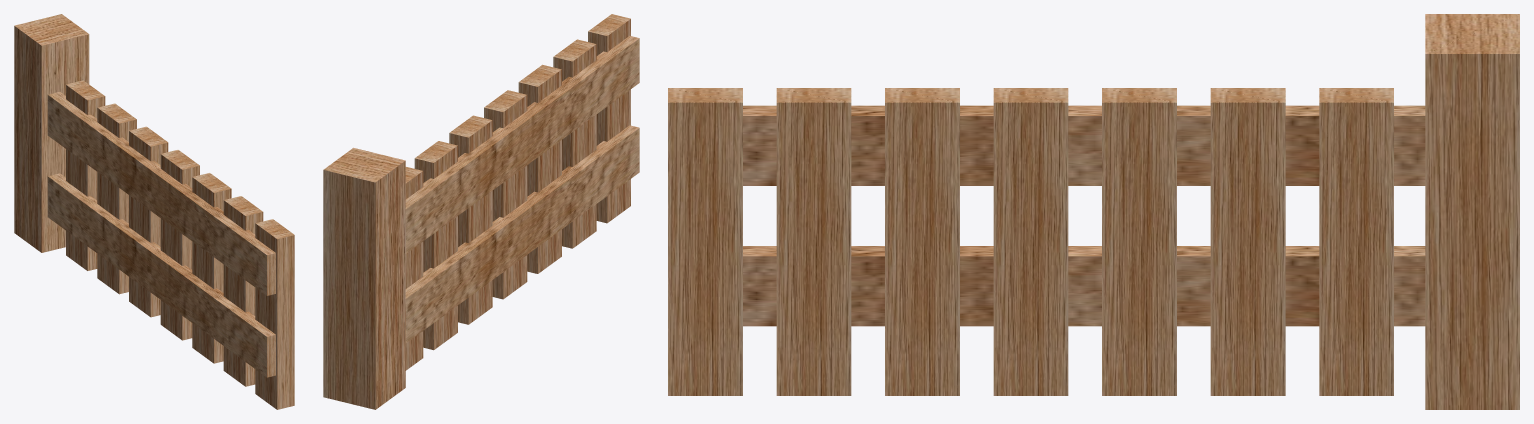
The model's file is Fence asset.fbx.
3 renders of one model, left to right at view 1: azimuth 30°, elevation 25°; view 2: azimuth 150°, elevation 25°; view 3: azimuth 270°, elevation 25°, orthographic. The views are drawn at different scales.
Visible parts, largest first — view 1: Cube.002, Cube.001, Cube; view 2: Cube.002, Cube.001, Cube; view 3: Cube.001, Cube.002, Cube.
Boxes of the visible parts, bbox=[...] form: Cube.002: bbox=[47, 92, 275, 377]; Cube.001: bbox=[66, 80, 294, 409]; Cube: bbox=[14, 14, 89, 252]; Cube.002: bbox=[405, 36, 639, 343]; Cube.001: bbox=[405, 14, 630, 370]; Cube: bbox=[323, 147, 405, 409]; Cube.001: bbox=[668, 88, 1393, 395]; Cube.002: bbox=[743, 105, 1425, 326]; Cube: bbox=[1425, 14, 1519, 409].
Size of the model in its own units: 131 by 544 by 1181.
Materials: 3 (3 with a texture image).
